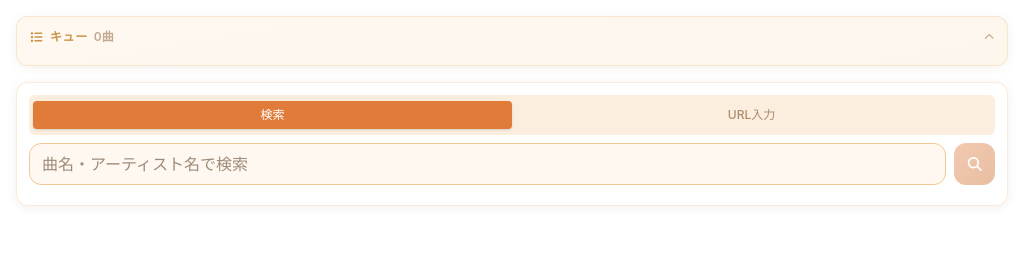
MusicPanel › URL入力タブ › URL入力 タブに切り替え可能
Click the tab "URL入力" at (752, 115), box [512,101,991,129]
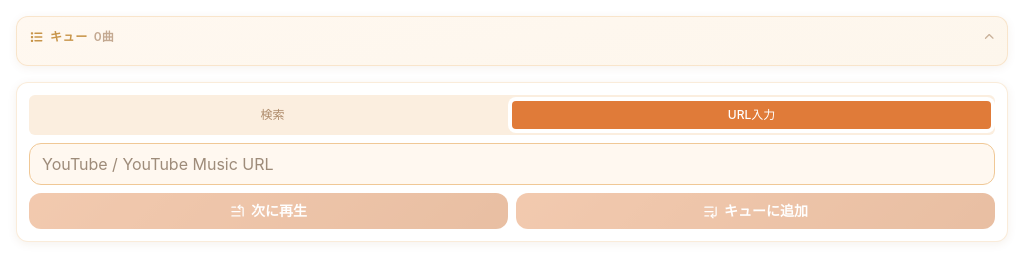
Expected: the field with placeholder "YouTube / YouTube Music URL" is shown, [29,143,995,185]
